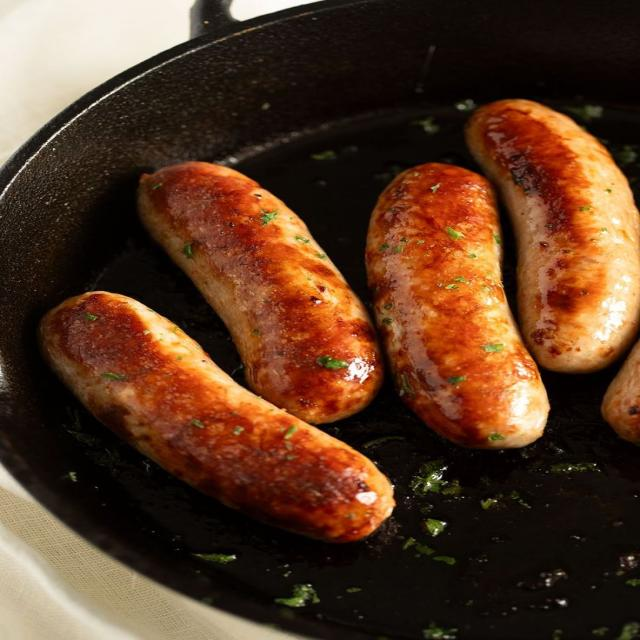sausage: (40, 292, 393, 542), (139, 162, 382, 423), (367, 164, 548, 448), (467, 100, 639, 373), (601, 343, 639, 445)
